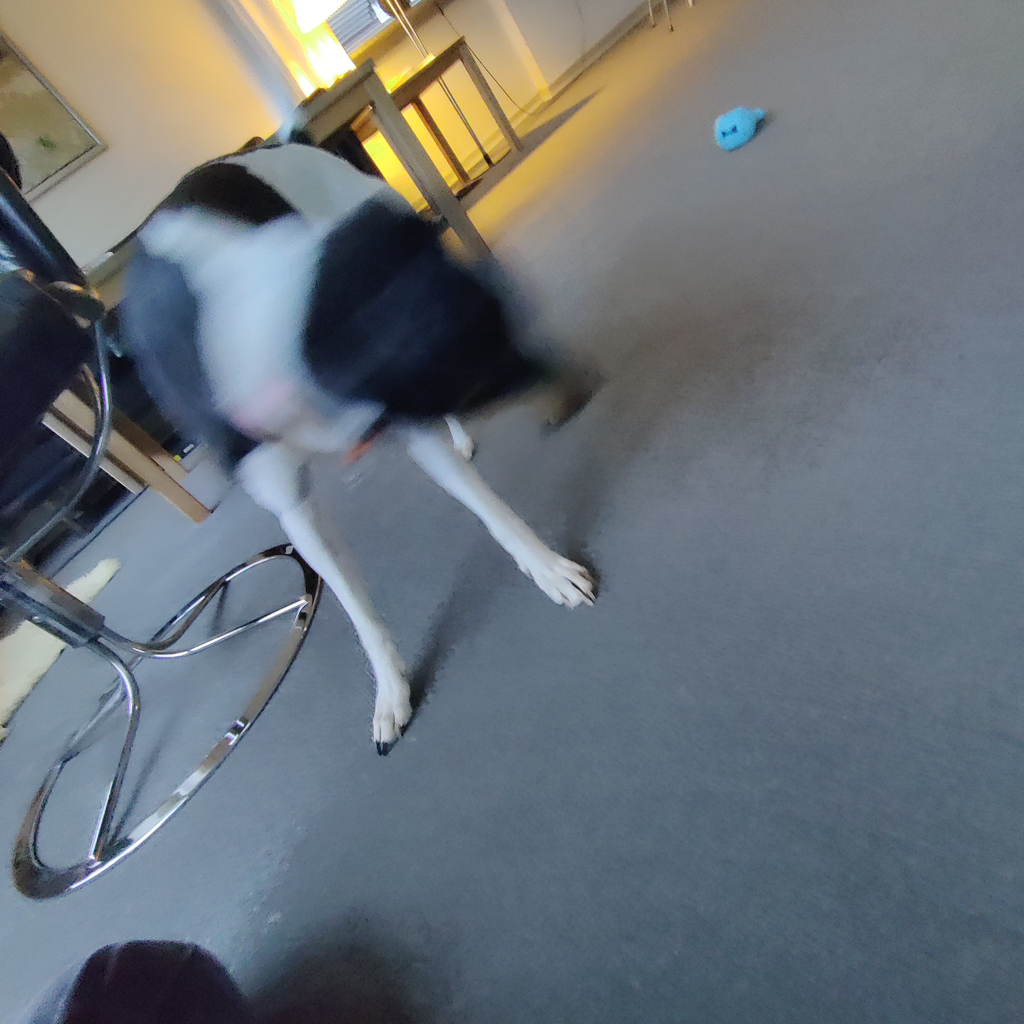Dog: (61, 0, 674, 774)
Humanoid: (7, 922, 294, 1024)
